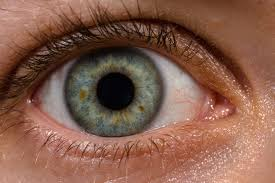pupil: (62, 53, 162, 137)
